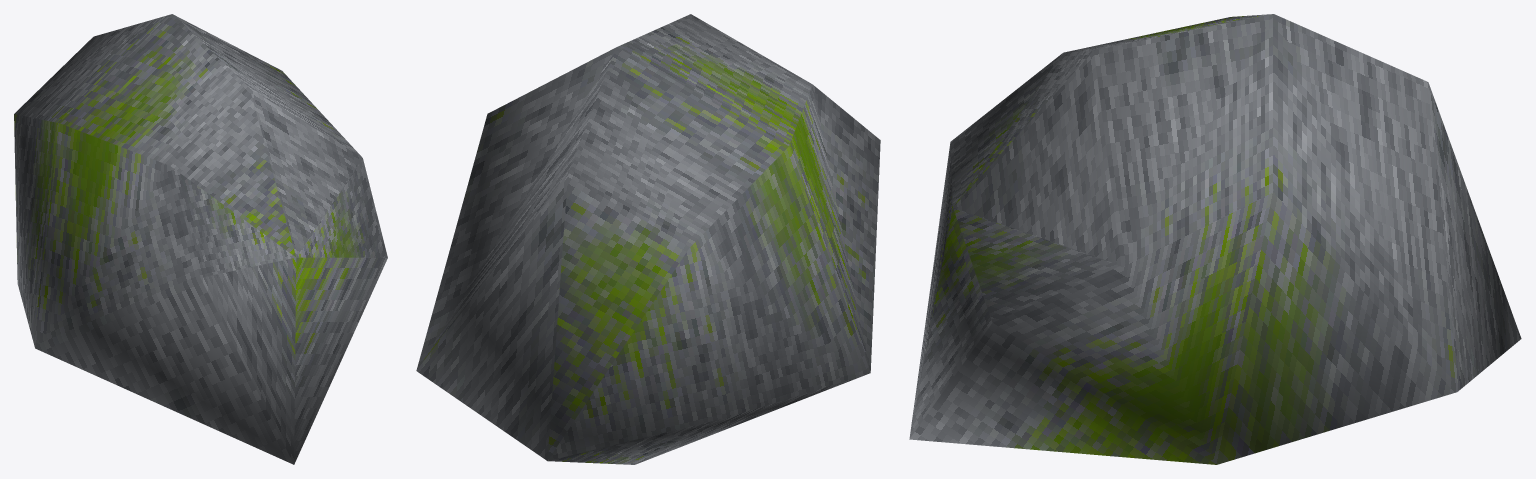
File: searock01.obj
The picture shows the model from 3 angles, left to right: view 1: azimuth 30°, elevation 25°; view 2: azimuth 150°, elevation 25°; view 3: azimuth 270°, elevation 25°; orthographic projection. The views are drawn at different scales.
Visible parts, largest first — view 1: Sphere03; view 2: Sphere03; view 3: Sphere03.
Boxes of the visible parts, bbox=[...] form: Sphere03: bbox=[14, 14, 387, 464]; Sphere03: bbox=[416, 14, 880, 464]; Sphere03: bbox=[909, 14, 1521, 464].
Size of the model in its own units: 13.08 by 13.43 by 16.79.
